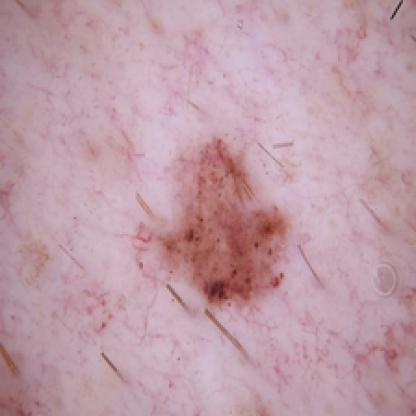benign: (130, 128, 312, 323)
